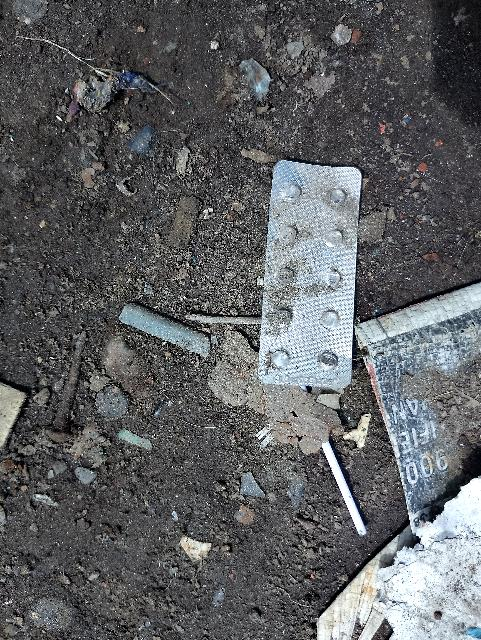medicine: (265, 150, 362, 389)
